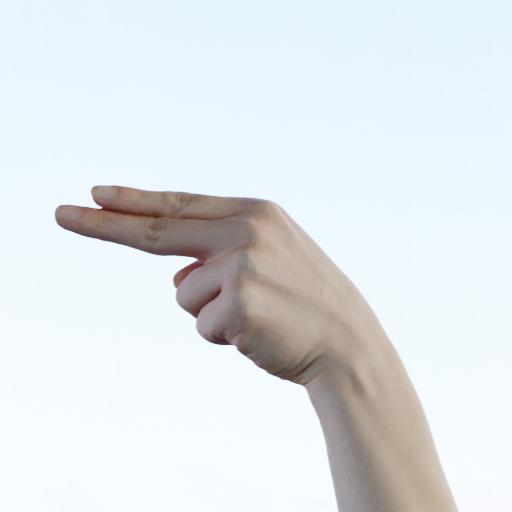H: (37, 160, 368, 416)
